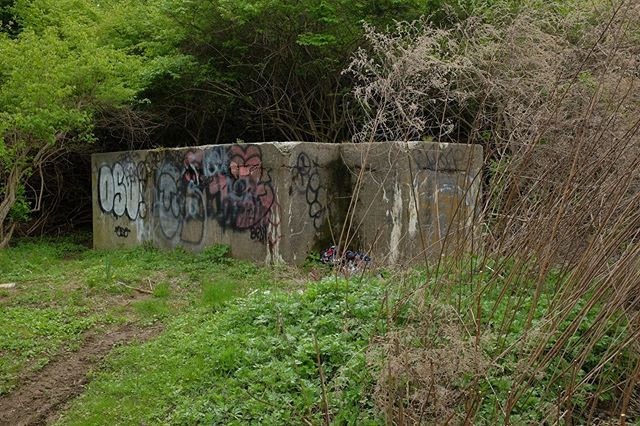graffiti: (93, 142, 287, 254)
vegetation: (3, 1, 640, 140), (187, 252, 640, 426)
